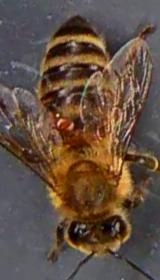varroa_mite: (48, 112, 78, 133)
